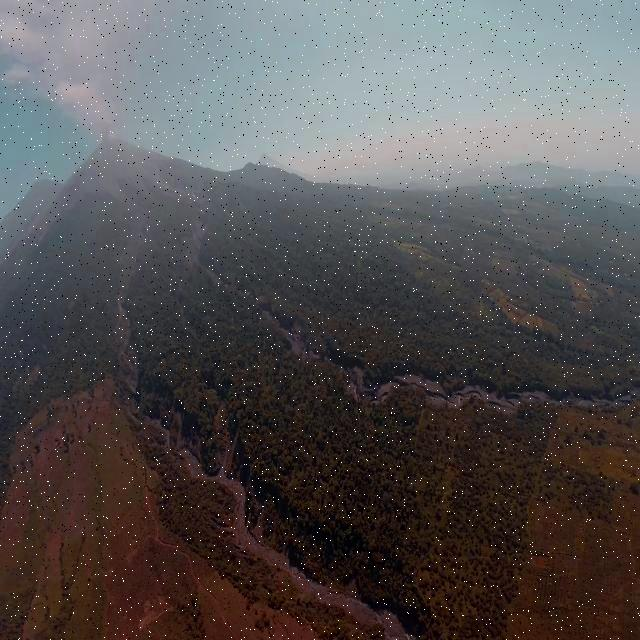Plume: (56, 76, 116, 136), (100, 117, 112, 139)
Summit: (94, 132, 132, 148)
